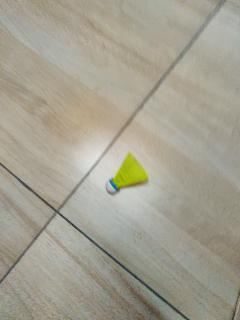shuttlecock: (106, 152, 148, 192)
